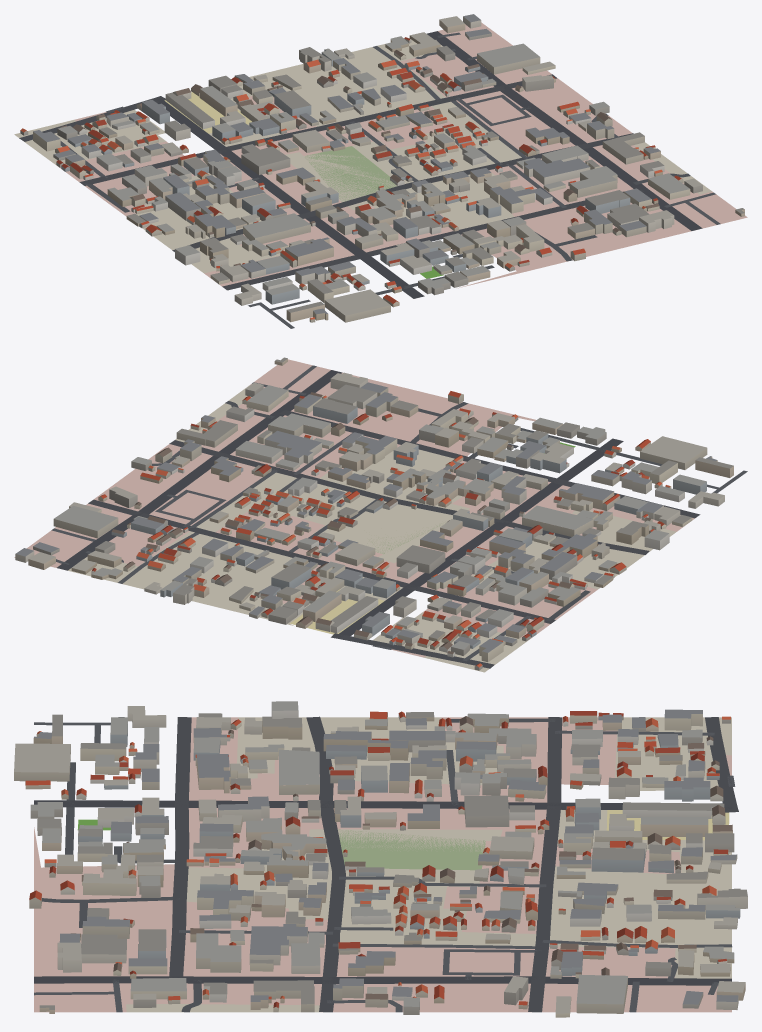
3 renders of one model, top to bottom at view 1: azimuth 30°, elevation 25°; view 2: azimuth 150°, elevation 25°; view 3: azimuth 270°, elevation 25°, orthographic. The views are drawn at different scales.
Visible parts, largest first — view 1: buildings_roofs, buildings_walls, landuse, roads; view 2: buildings_roofs, buildings_walls, landuse, roads; view 3: buildings_roofs, landuse, buildings_walls, roads.
Boxes of the visible parts, left/top/right/bottom form: buildings_roofs: left=20, top=14, right=744, bottom=319; buildings_walls: left=20, top=16, right=744, bottom=322; landuse: left=14, top=22, right=747, bottom=288; roads: left=19, top=31, right=720, bottom=328; buildings_roofs: left=16, top=357, right=733, bottom=667; buildings_walls: left=15, top=359, right=733, bottom=670; landuse: left=14, top=359, right=694, bottom=672; roads: left=51, top=365, right=747, bottom=668; buildings_roofs: left=14, top=701, right=747, bottom=1013; landuse: left=34, top=717, right=731, bottom=1012; buildings_walls: left=14, top=705, right=747, bottom=1017; roads: left=34, top=716, right=738, bottom=1012.
Bounding box in the file's own units: 516 × 9.63 × 526.
